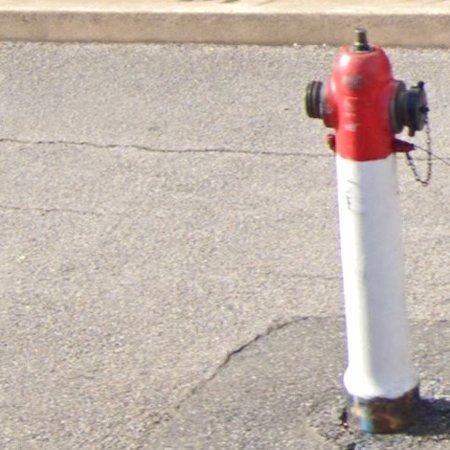a fire hydrant: (306, 29, 430, 433)
